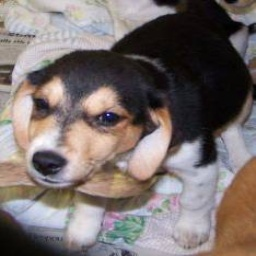dog: (14, 7, 248, 201)
